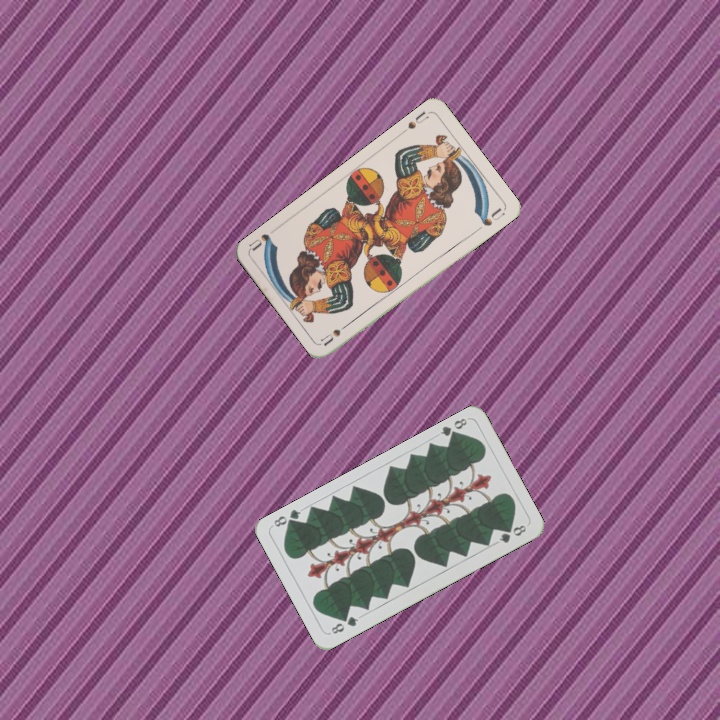G8: (436, 414, 470, 443), (327, 612, 361, 637)
SU: (317, 317, 354, 348), (403, 107, 431, 132)
